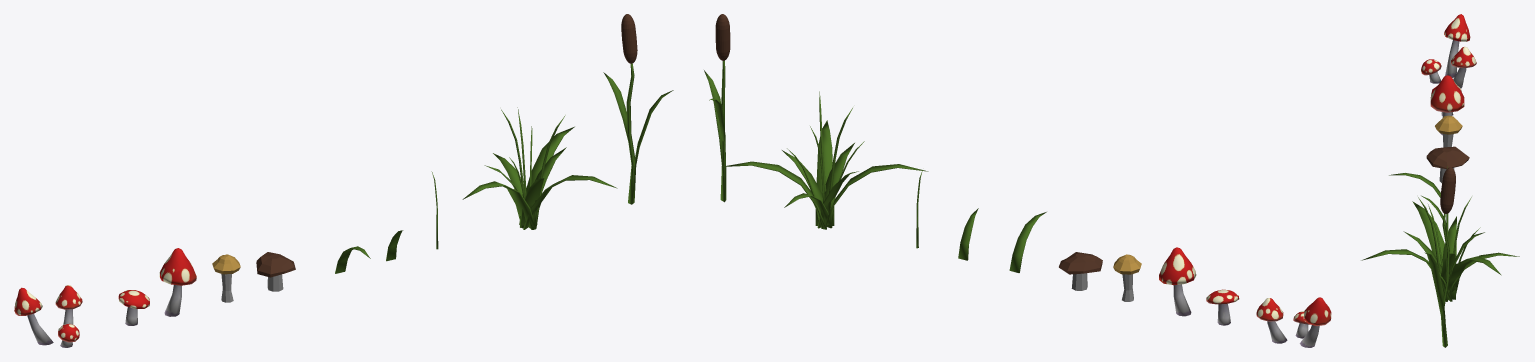
File: Grass2.fbx
3 views of the same model, side by side, from view 1: azimuth 30°, elevation 25°; view 2: azimuth 150°, elevation 25°; view 3: azimuth 270°, elevation 25° (orthographic). The views are drawn at different scales.
Parts seen in each view (by area): view 1: Grass 4, Reeds, Mushroom 4, Mushroom 8, Mushroom 5, Mushroom 6, Mushroom 7; view 2: Grass 4, Mushroom 4, Reeds, Mushroom 8, Mushroom 5, Mushroom 6, Mushroom 7, Leaf 1; view 3: Grass 4, Mushroom 4, Reeds, Mushroom 8, Mushroom 5, Mushroom 6, Leaf 1.
Part boxes in pixels (<box>): Grass 4: <box>462,107,617,229</box>; Reeds: <box>603,14,673,204</box>; Mushroom 4: <box>14,285,82,347</box>; Mushroom 8: <box>159,248,196,316</box>; Mushroom 5: <box>256,252,295,291</box>; Mushroom 6: <box>212,254,240,302</box>; Mushroom 7: <box>118,290,149,325</box>; Grass 4: <box>721,91,928,229</box>; Mushroom 4: <box>1256,297,1331,347</box>; Reeds: <box>704,14,730,202</box>; Mushroom 8: <box>1159,247,1196,316</box>; Mushroom 5: <box>1059,252,1102,290</box>; Mushroom 6: <box>1113,254,1141,301</box>; Mushroom 7: <box>1206,289,1239,325</box>; Leaf 1: <box>1009,212,1046,272</box>; Grass 4: <box>1361,166,1519,301</box>; Mushroom 4: <box>1421,14,1476,88</box>; Reeds: <box>1424,167,1484,347</box>; Mushroom 8: <box>1430,75,1464,135</box>; Mushroom 5: <box>1426,146,1469,182</box>; Mushroom 6: <box>1435,115,1462,147</box>; Leaf 1: <box>1389,173,1440,197</box>.
Bounding box in the file's own units: 837 × 235 × 192.
